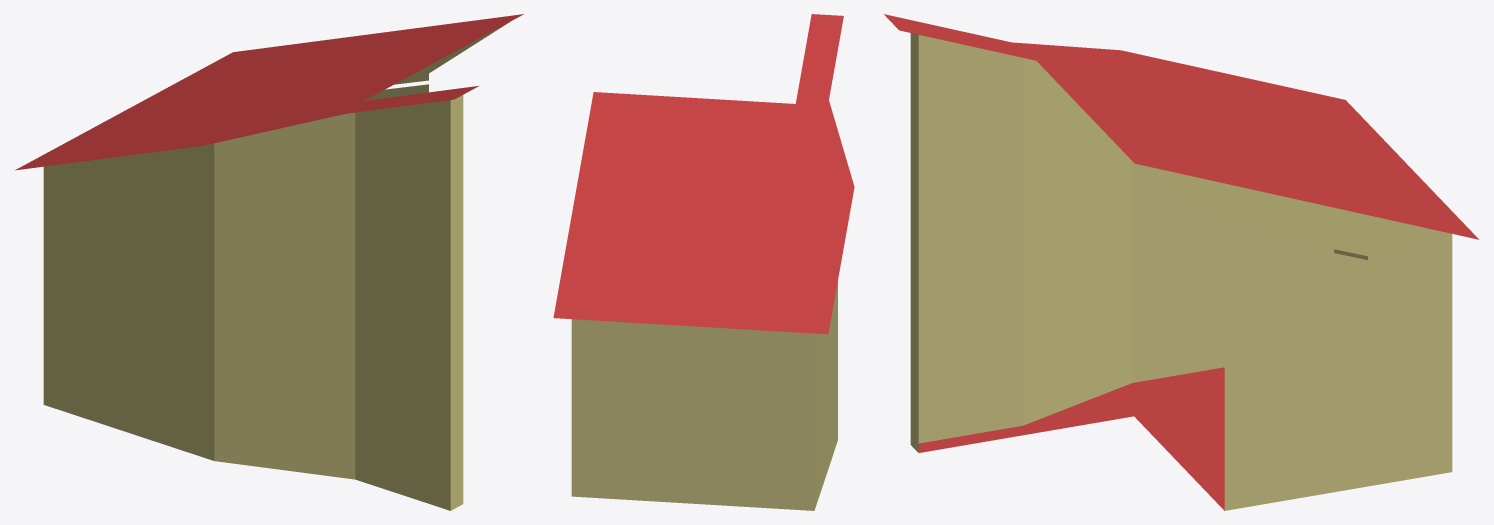
The picture shows the model from 3 angles, left to right: view 1: azimuth 30°, elevation 25°; view 2: azimuth 150°, elevation 25°; view 3: azimuth 270°, elevation 25°; orthographic projection. The views are drawn at different scales.
Size of the model in its own units: 11.23 by 14.23 by 11.22.
